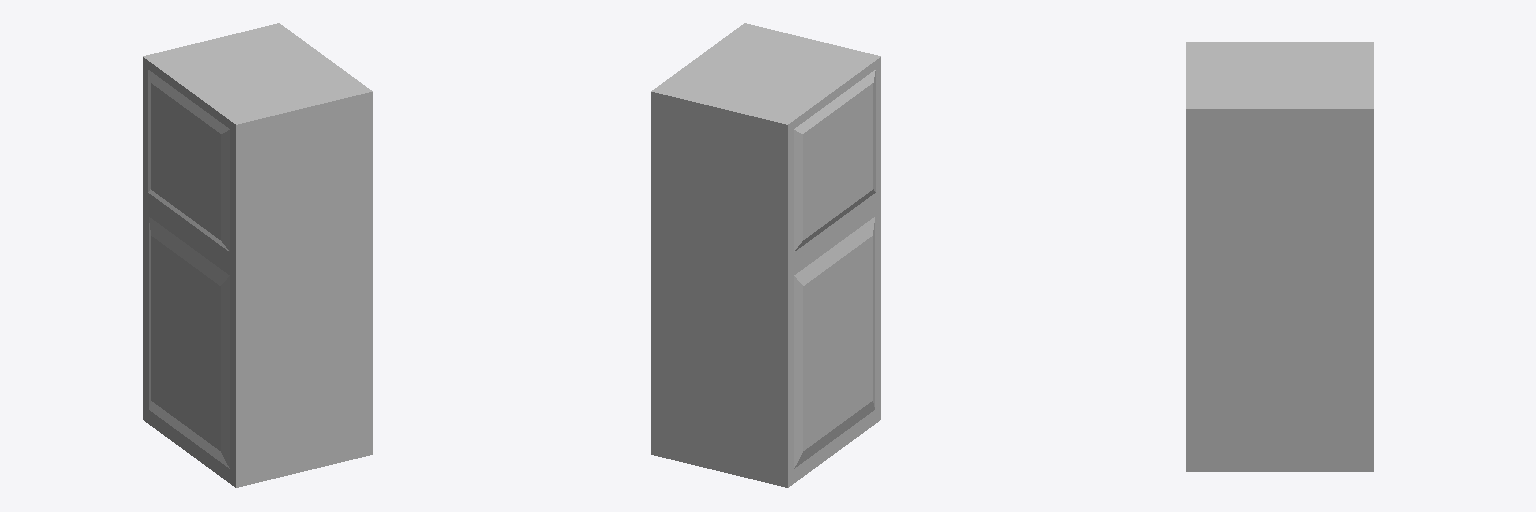
The model's file is Fridge.obj.
3 renders of one model, left to right at view 1: azimuth 30°, elevation 25°; view 2: azimuth 150°, elevation 25°; view 3: azimuth 270°, elevation 25°, orthographic.
Visible parts, largest first — view 1: pCube12; view 2: pCube12; view 3: pCube12.
Part boxes in pixels (x1,y1,x2,y2): pCube12: (143,23,372,487); pCube12: (651,23,880,487); pCube12: (1186,42,1373,471).
Bounding box in the file's own units: 3.84 × 9.5 × 4.44.